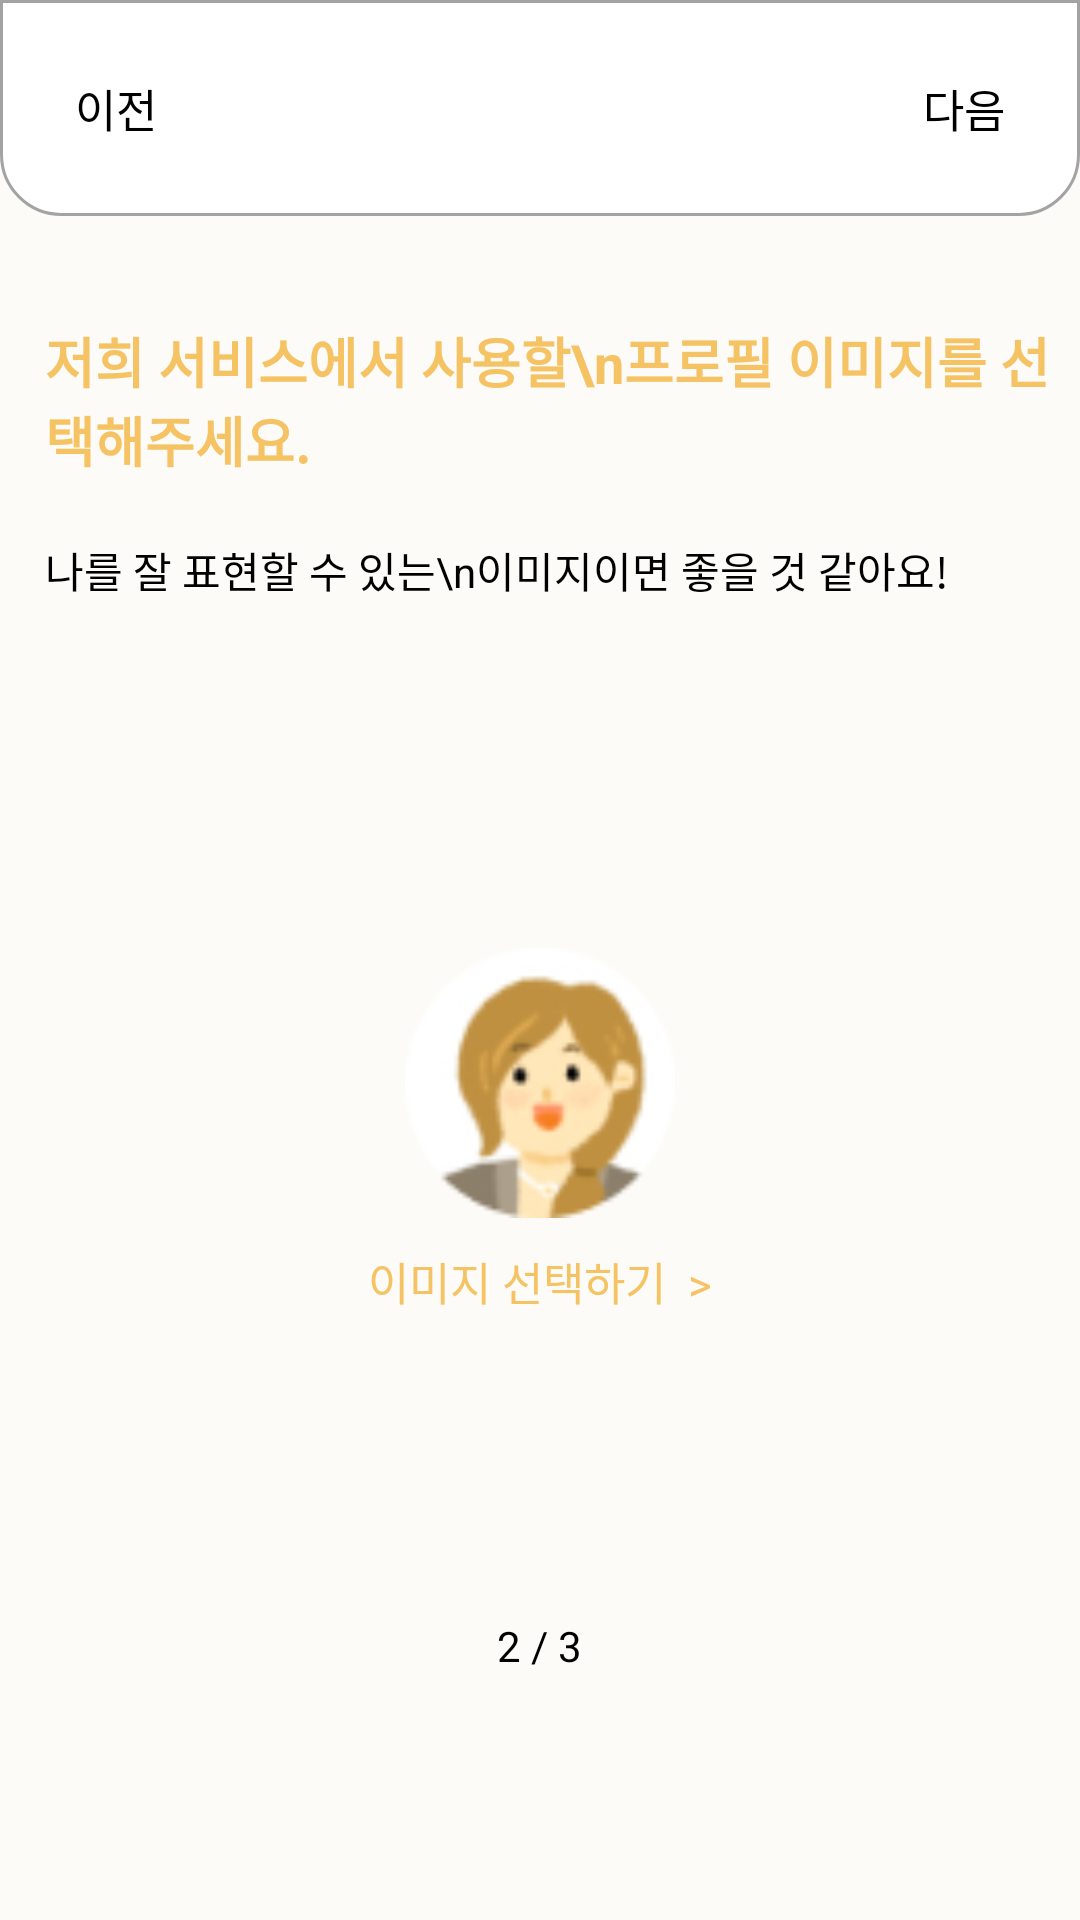

Where to tap for icons on this 1080w x 1920h app screen, as (x,y):
mom: (544,1097)
